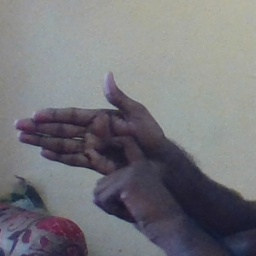R: (15, 70, 154, 203)
